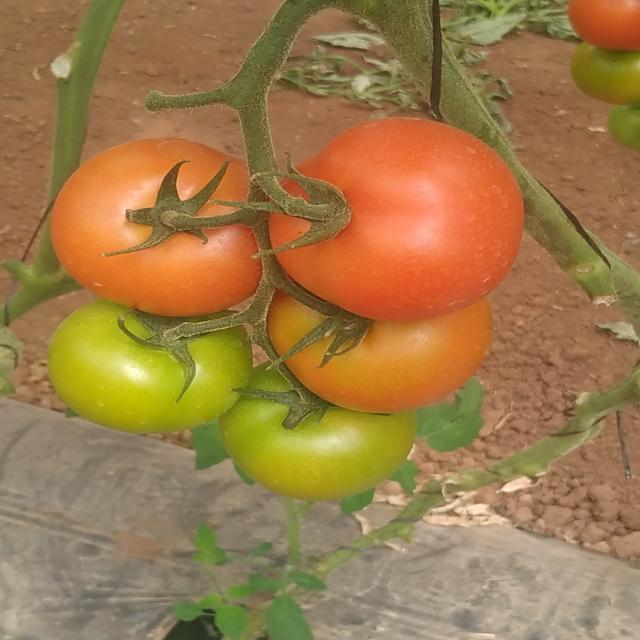Ripe Tomato: (272, 108, 522, 321), (48, 130, 268, 316), (272, 310, 494, 412)
Unripe Tomato: (44, 318, 252, 428), (235, 392, 418, 498)
